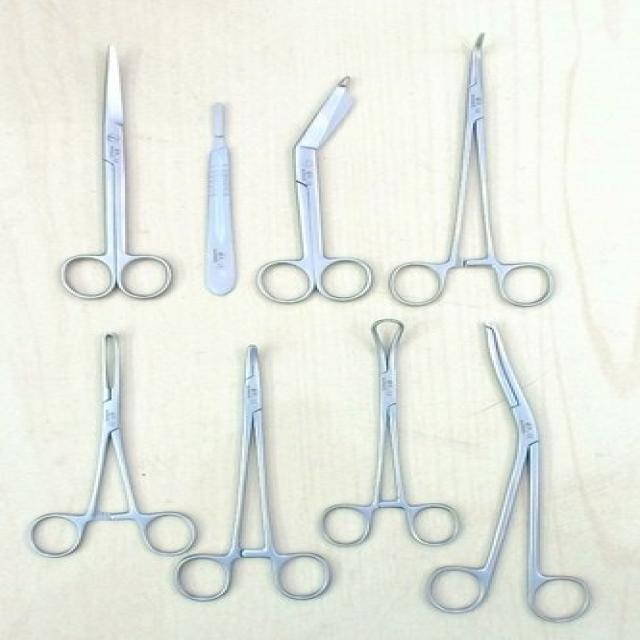B3: (381, 29, 561, 314), (16, 321, 218, 562), (46, 35, 179, 307), (244, 56, 375, 310)
